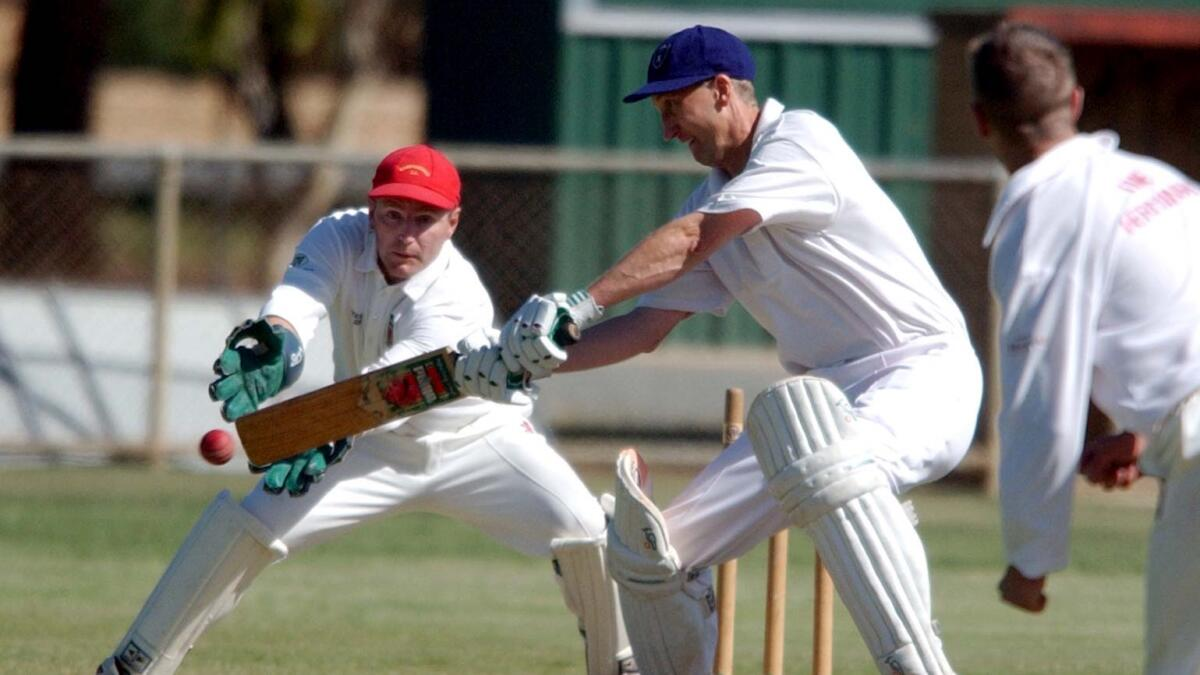Cutshot: (103, 9, 1005, 675)
